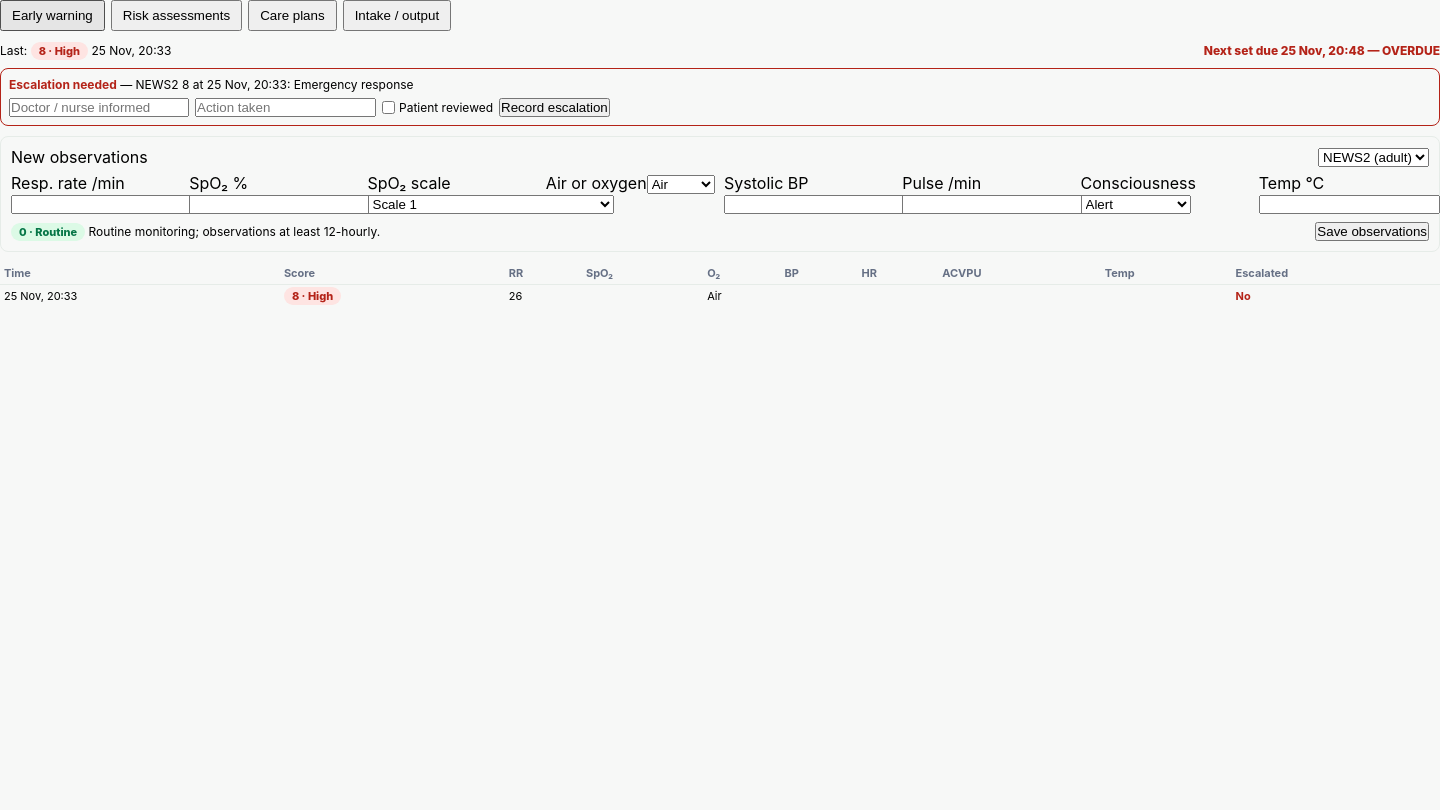
Test: ward observations › previews NEWS2 live and refuses an incomplete set
Later steps or results of the test are not shown.
Expected: the text "Escalation needed" is shown, x1=9 y1=77 x2=117 y2=92
Click the button "Save observations" at {"x": 1372, "y": 232}, box x1=1315 y1=222 x2=1429 y2=241
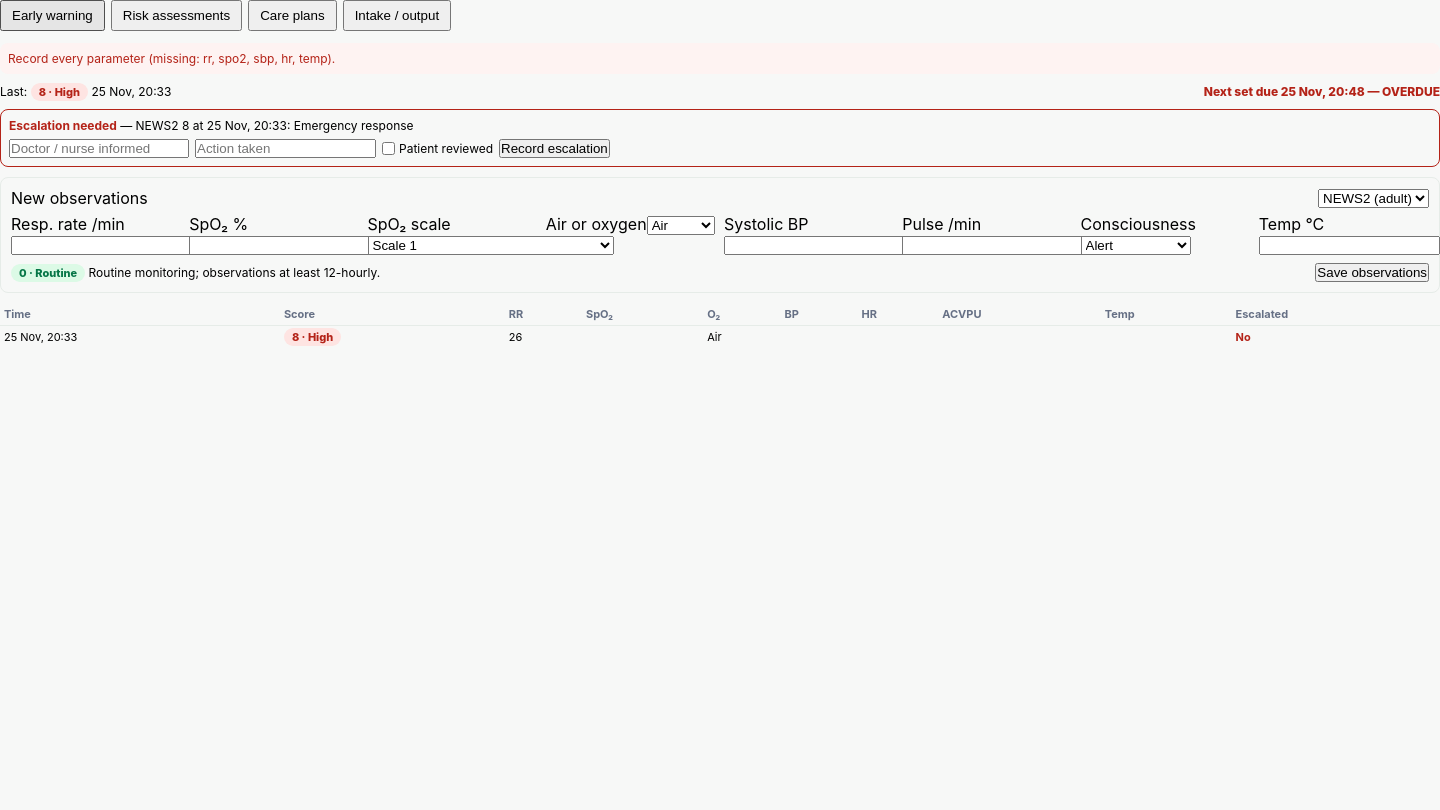
Expected: the text "Record every parameter (missing: rr, spo2, sbp, hr, temp)." is shown, x1=0 y1=43 x2=1439 y2=74
Type "22" into the field labelled "Resp. rate /min" at {"x": 102, "y": 246}, box x1=11 y1=236 x2=192 y2=255
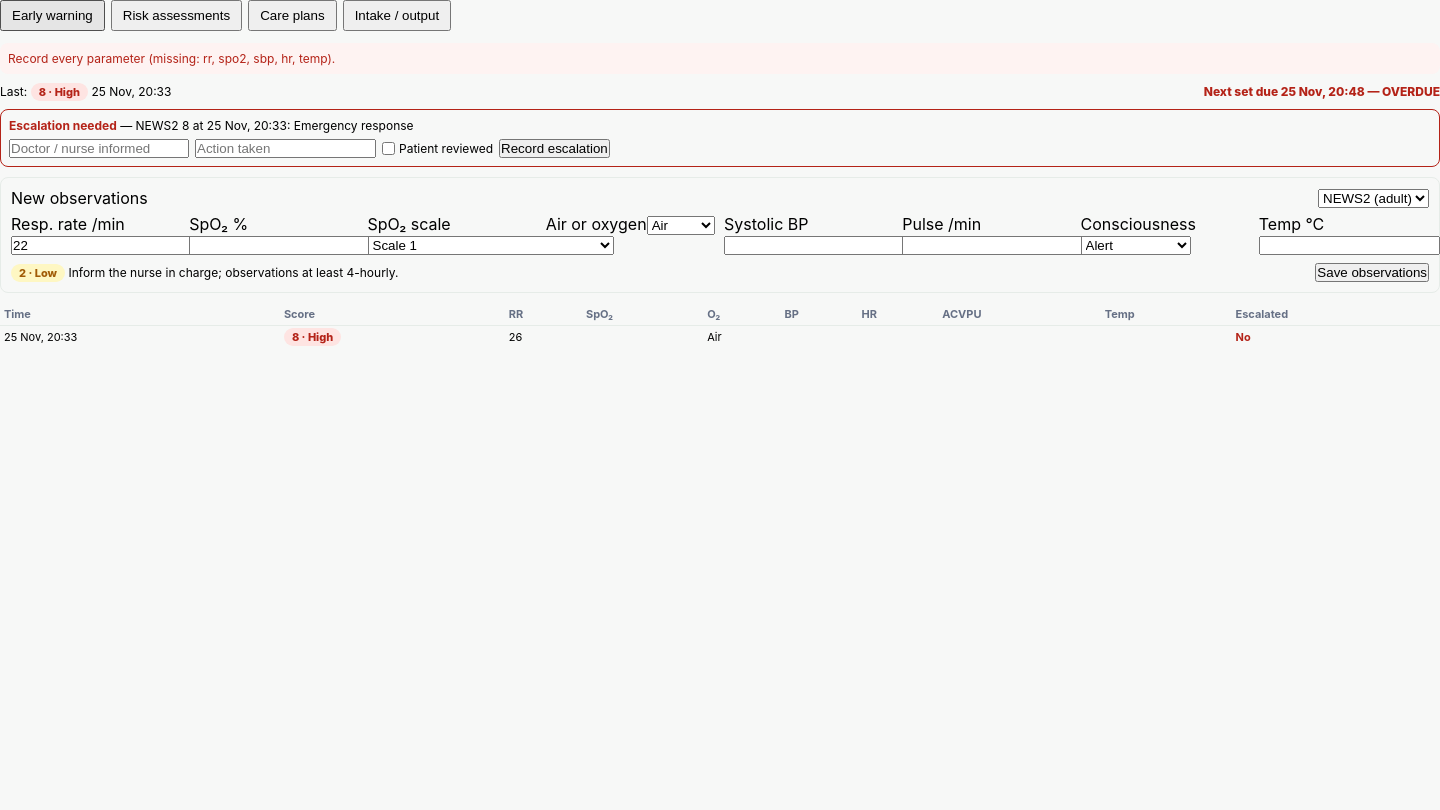
Type "95" into the field labelled "SpO₂ %" at {"x": 280, "y": 246}, box x1=189 y1=236 x2=370 y2=255
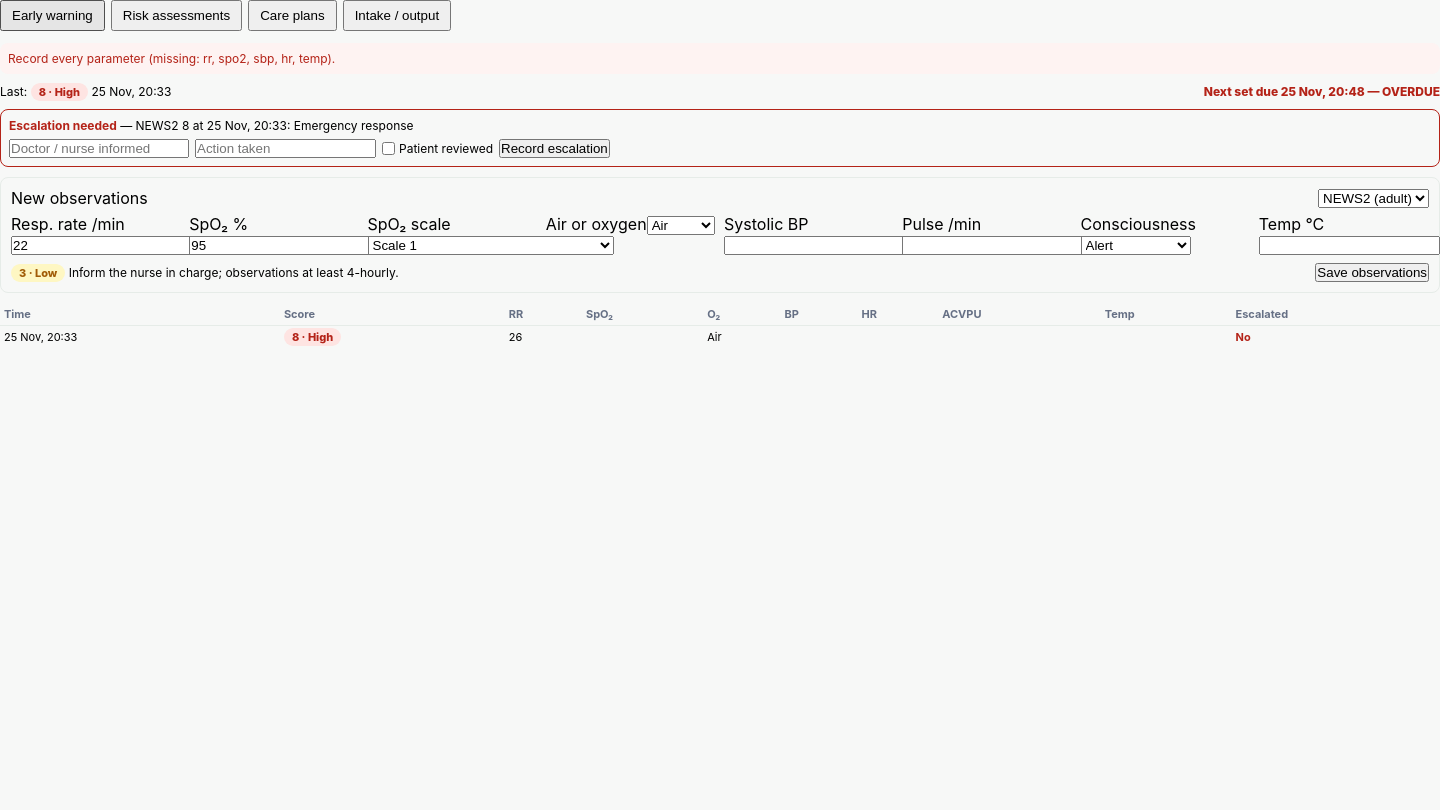
Type "105" into the field labelled "Systolic BP" at {"x": 814, "y": 246}, box x1=724 y1=236 x2=905 y2=255
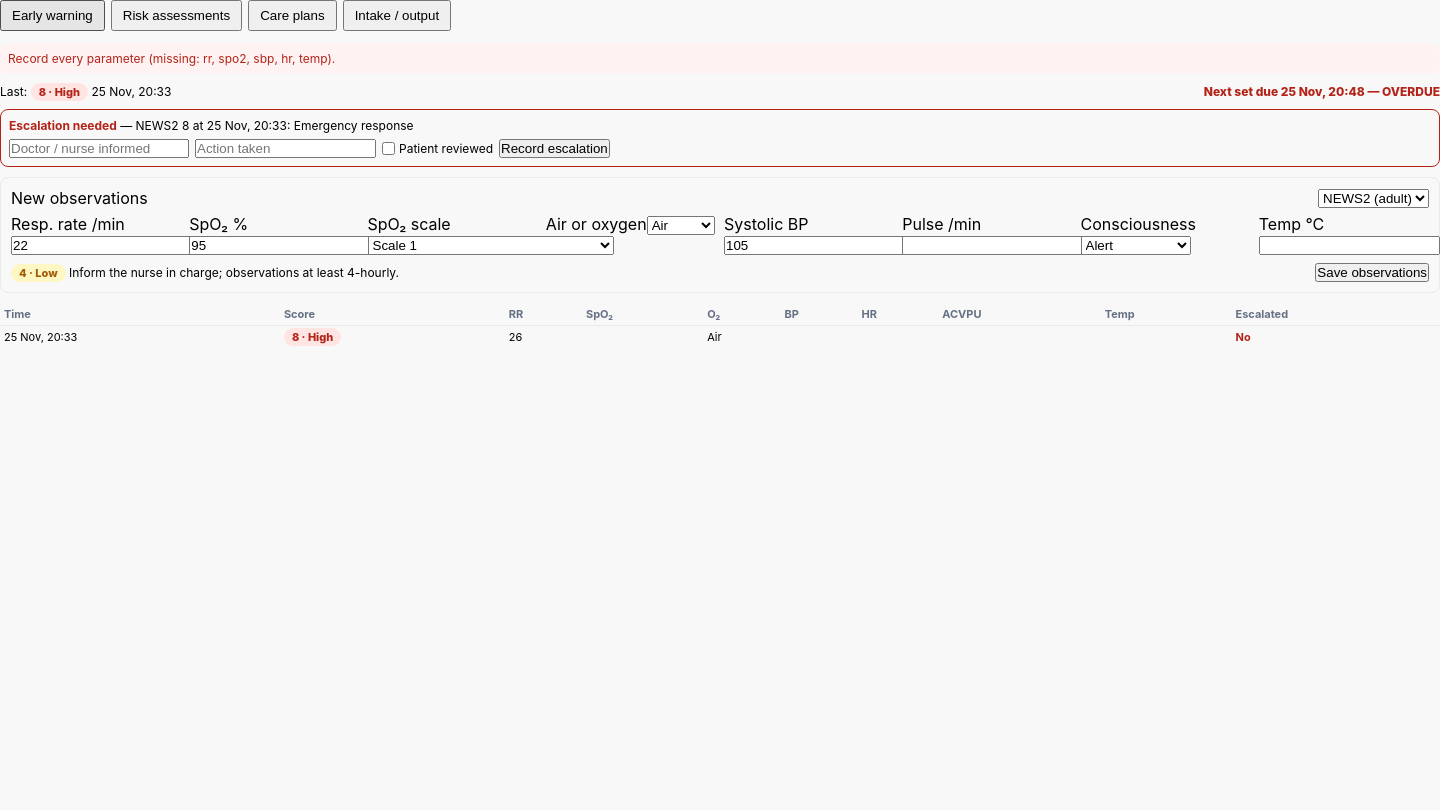
Type "95" into the field labelled "Pulse /min" at {"x": 993, "y": 246}, box x1=902 y1=236 x2=1083 y2=255
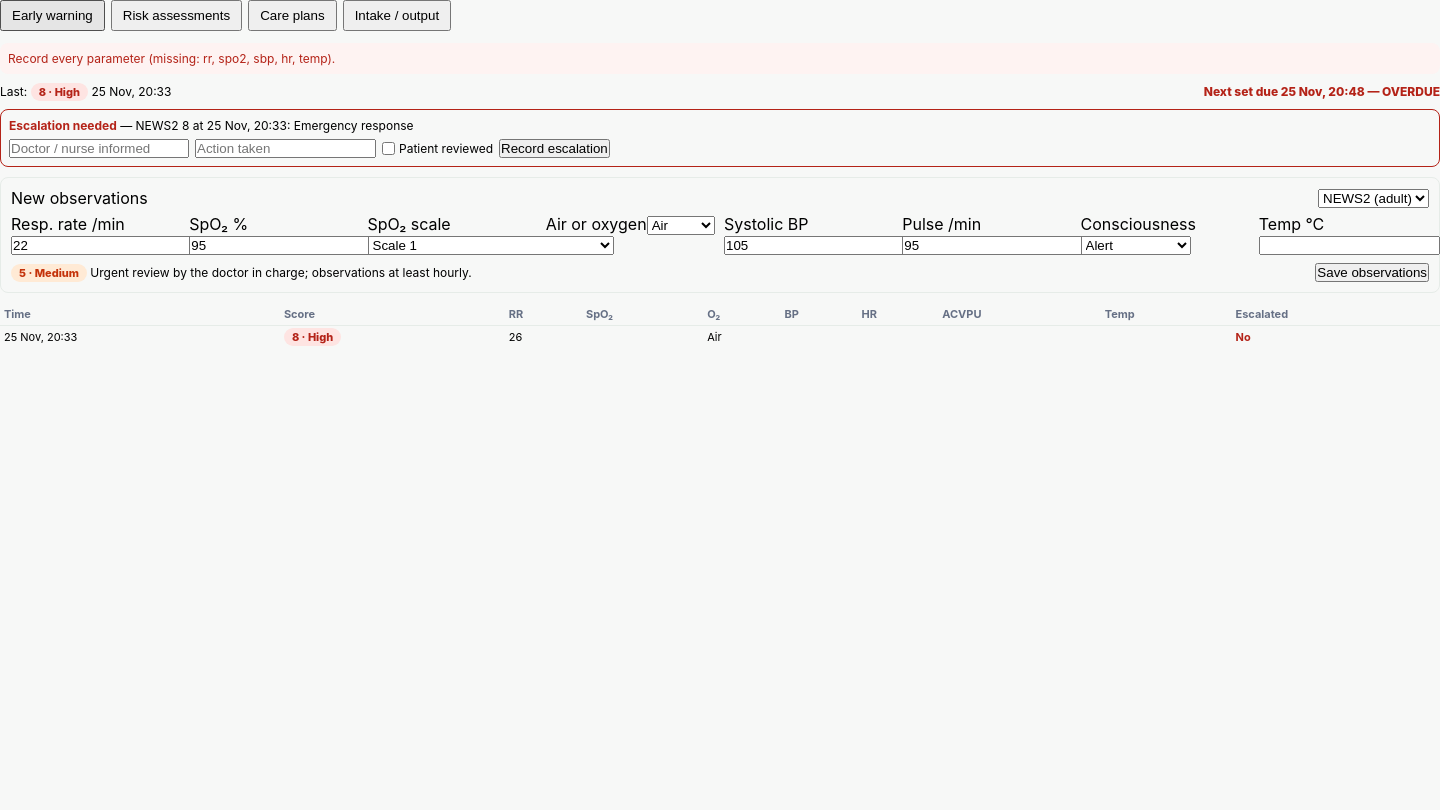
Type "38.4" into the field labelled "Temp °C" at {"x": 1349, "y": 246}, box x1=1259 y1=236 x2=1439 y2=255
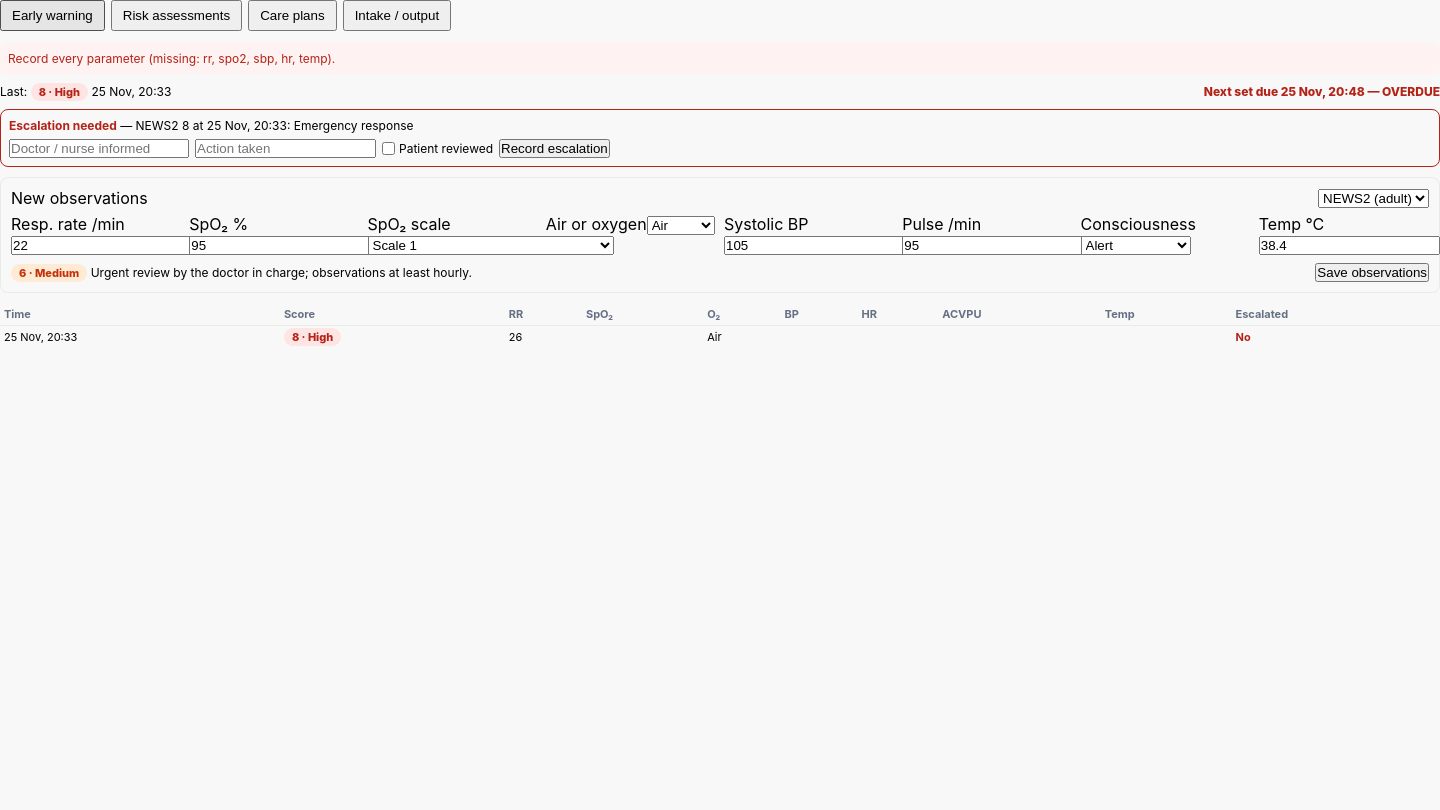
Expected: the text "6 · Medium" is shown, x1=11 y1=264 x2=87 y2=282
